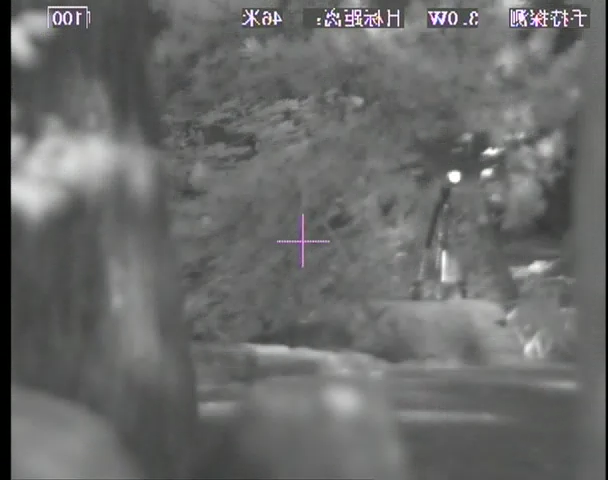my: (446, 169, 461, 185)
